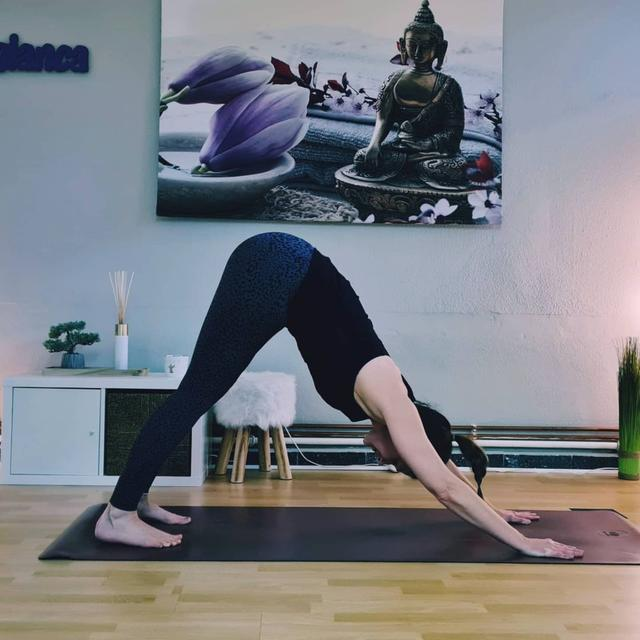Downward-Facing_Dog: (77, 226, 597, 562)
